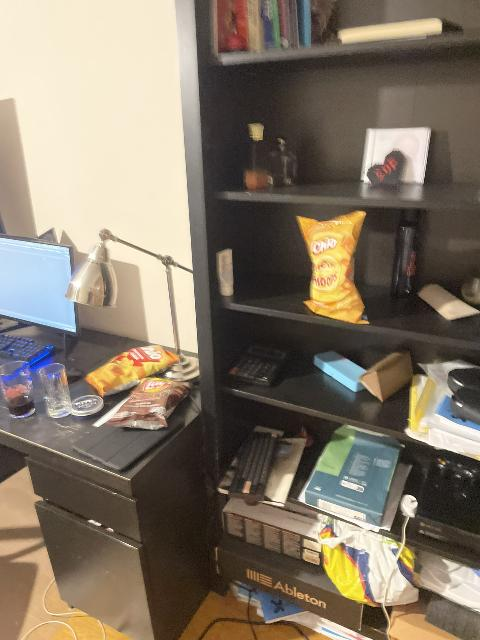Chio Cascaval 125g: (85, 345, 183, 397)
Chio Hula Hoops Cheese 70g: (297, 210, 370, 325)
Lays Beef Grilled Ribs 125g: (101, 377, 193, 429)
